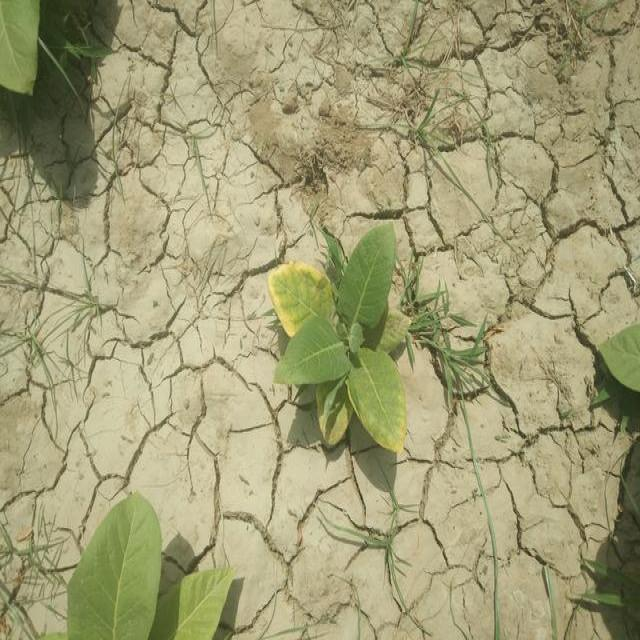crop: (260, 216, 412, 462), (56, 500, 235, 640), (0, 0, 43, 93), (595, 334, 640, 389)
